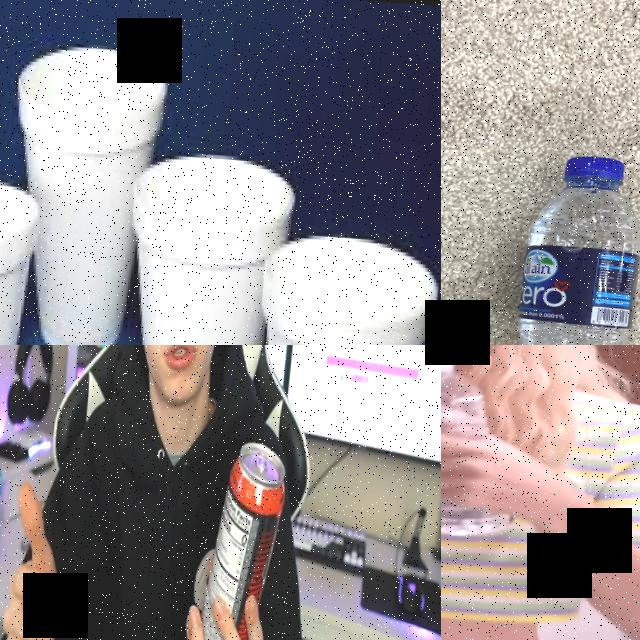bottle: (499, 145, 640, 345), (441, 350, 529, 538)
cup: (1, 47, 174, 345), (115, 147, 297, 345), (237, 232, 439, 345)
